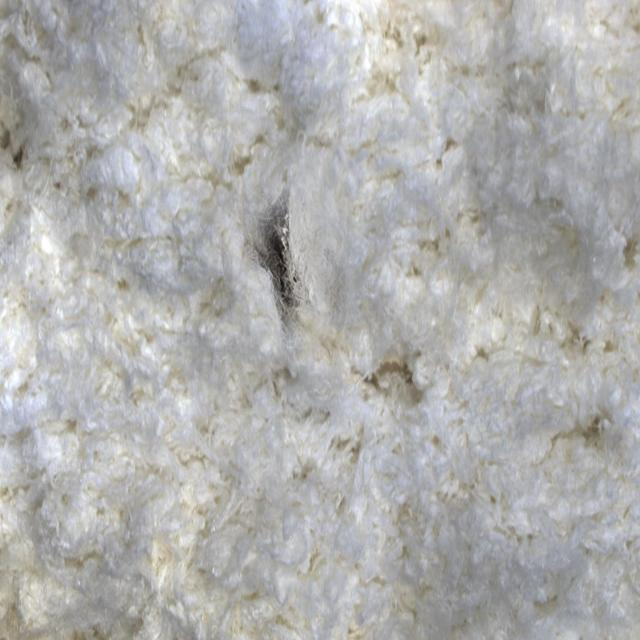dust: (200, 161, 356, 369)
